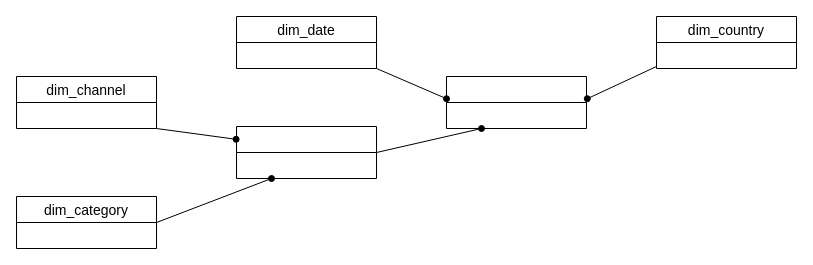
This 813x265 diagram has some shape labels left out. Each missing label, with the box of its shape:
dim_video: (236, 126, 376, 178)
fact_trending_video: (446, 76, 586, 128)
